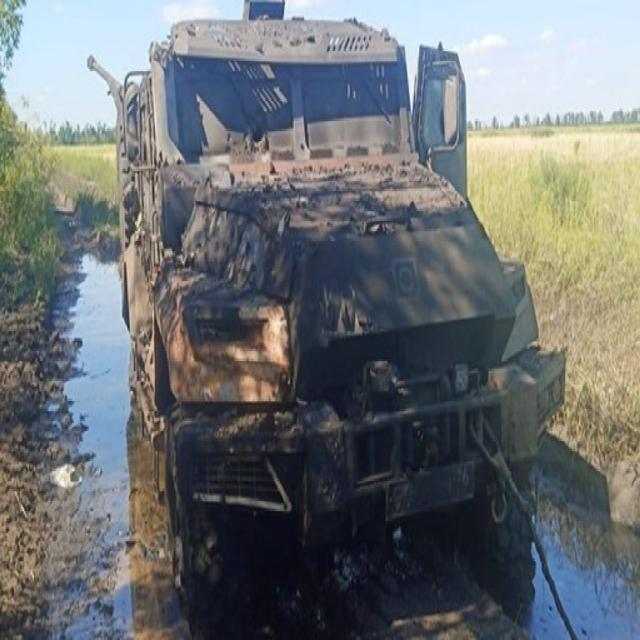CAR: (109, 13, 541, 607)
